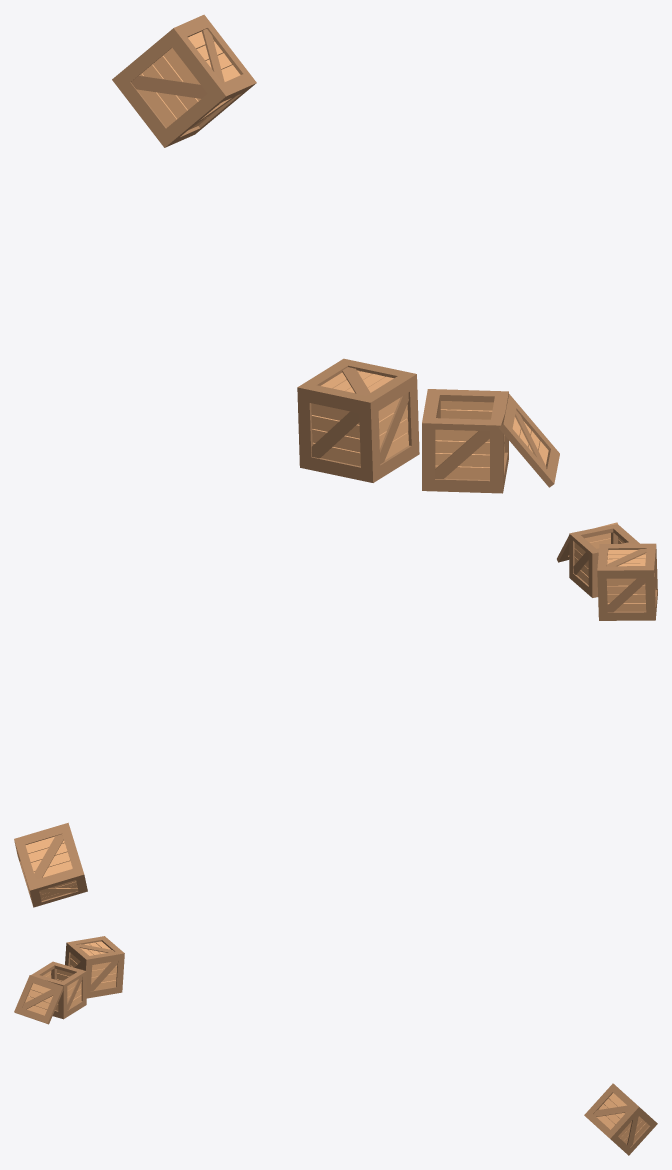
File: crates.gltf
3 views of the same model, one above another, from view 1: azimuth 30°, elevation 25°; view 2: azimuth 150°, elevation 25°; view 3: azimuth 270°, elevation 25° (orthographic). The views are drawn at different scales.
Parts seen in each view (by area): view 1: CrateClosed, CrateClosed.001, CreateOpen, CrateLid; view 2: CrateClosed, CrateClosed.001, CreateOpen; view 3: CrateClosed.001, CrateClosed, CreateOpen, CrateLid.
Boxes of the visible parts, left/top/right/bottom form: CrateClosed: left=297, top=358, right=419, bottom=482; CrateClosed.001: left=112, top=14, right=256, bottom=147; CreateOpen: left=422, top=389, right=508, bottom=493; CrateLid: left=498, top=394, right=559, bottom=487; CrateClosed: left=597, top=543, right=657, bottom=620; CrateClosed.001: left=14, top=822, right=87, bottom=907; CreateOpen: left=569, top=524, right=639, bottom=597; CrateClosed.001: left=584, top=1083, right=657, bottom=1155; CrateClosed: left=65, top=936, right=124, bottom=998; CreateOpen: left=30, top=961, right=86, bottom=1019; CrateLid: left=14, top=975, right=63, bottom=1024.
Bounding box in the file's own units: 2.76 × 1.35 × 6.62.
